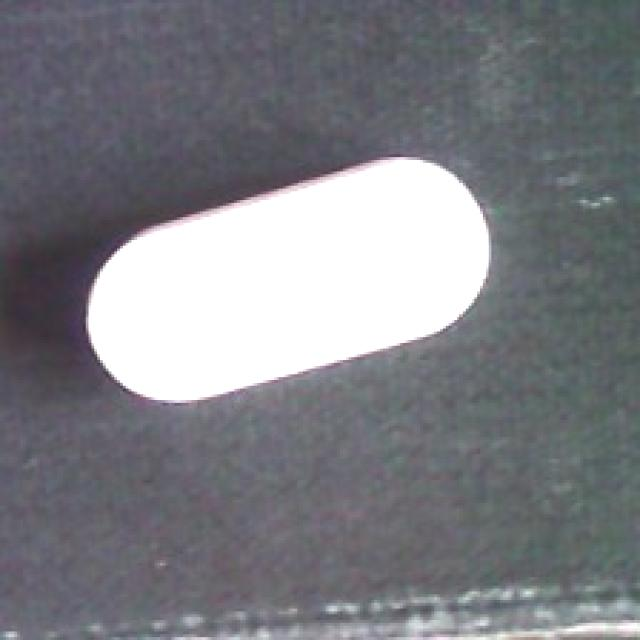no-defect: (83, 154, 497, 404)
